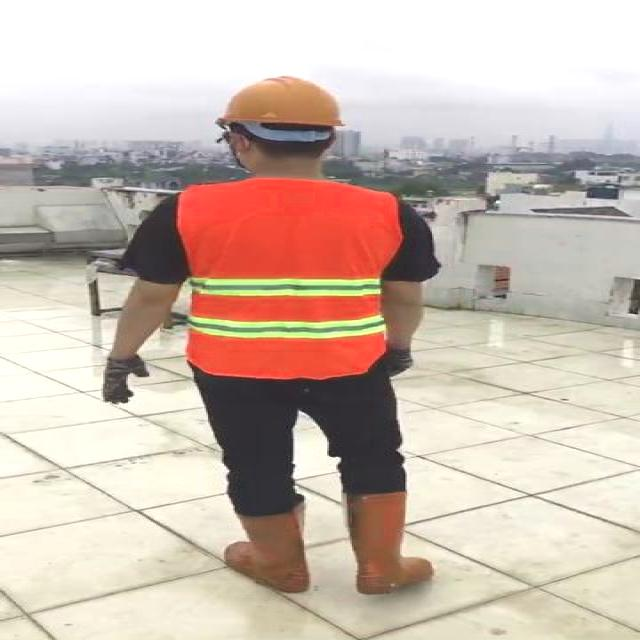boots: (338, 493, 434, 597), (222, 500, 315, 594)
hand_glove: (101, 356, 151, 403), (384, 349, 418, 377)
head_helmet: (212, 71, 352, 134)
person: (98, 65, 469, 606)
vest: (178, 180, 386, 380)
